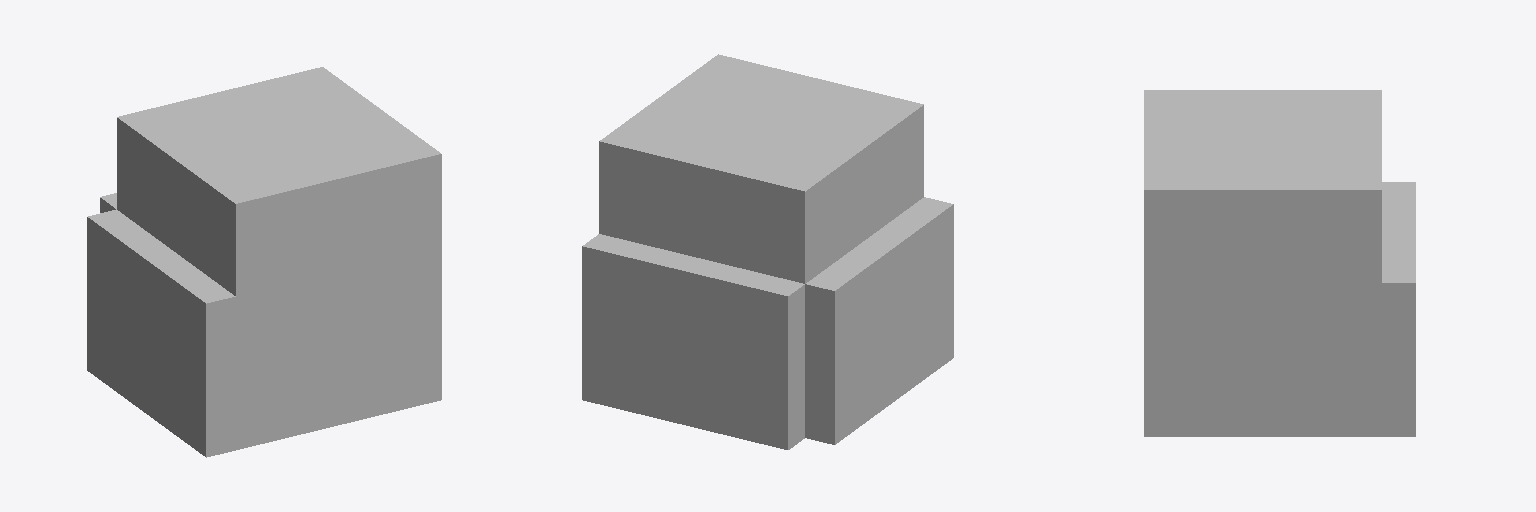
File: CliffCorner.obj
3 renders of one model, left to right at view 1: azimuth 30°, elevation 25°; view 2: azimuth 150°, elevation 25°; view 3: azimuth 270°, elevation 25°, orthographic.
Visible parts, largest first — view 1: cube; view 2: cube; view 3: cube.
Boxes of the visible parts, box(x1,y1,x2,y2) form: cube: box(87, 67, 441, 457); cube: box(582, 54, 953, 449); cube: box(1144, 90, 1415, 436).
Bounding box in the file's own units: 1 × 1 × 1.